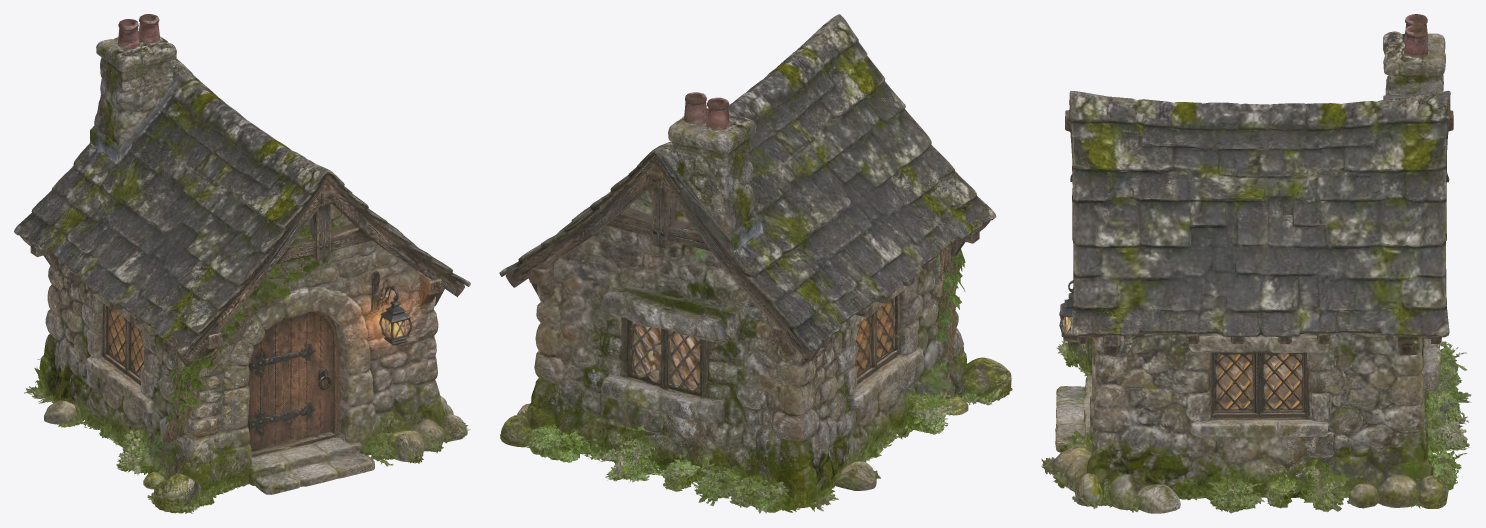
Rendered from cottage.glb.
3 renders of one model, left to right at view 1: azimuth 30°, elevation 25°; view 2: azimuth 150°, elevation 25°; view 3: azimuth 270°, elevation 25°, orthographic. The views are drawn at different scales.
Parts seen in each view (by area): view 1: Mesh_0; view 2: Mesh_0; view 3: Mesh_0.
Part boxes in pixels (x1,y1,x2,y2): Mesh_0: [14, 14, 470, 513]; Mesh_0: [499, 14, 1012, 513]; Mesh_0: [1041, 14, 1471, 513].
Size of the model in its own units: 1.77 by 1.84 by 1.85.
1 material, 1 textured.
